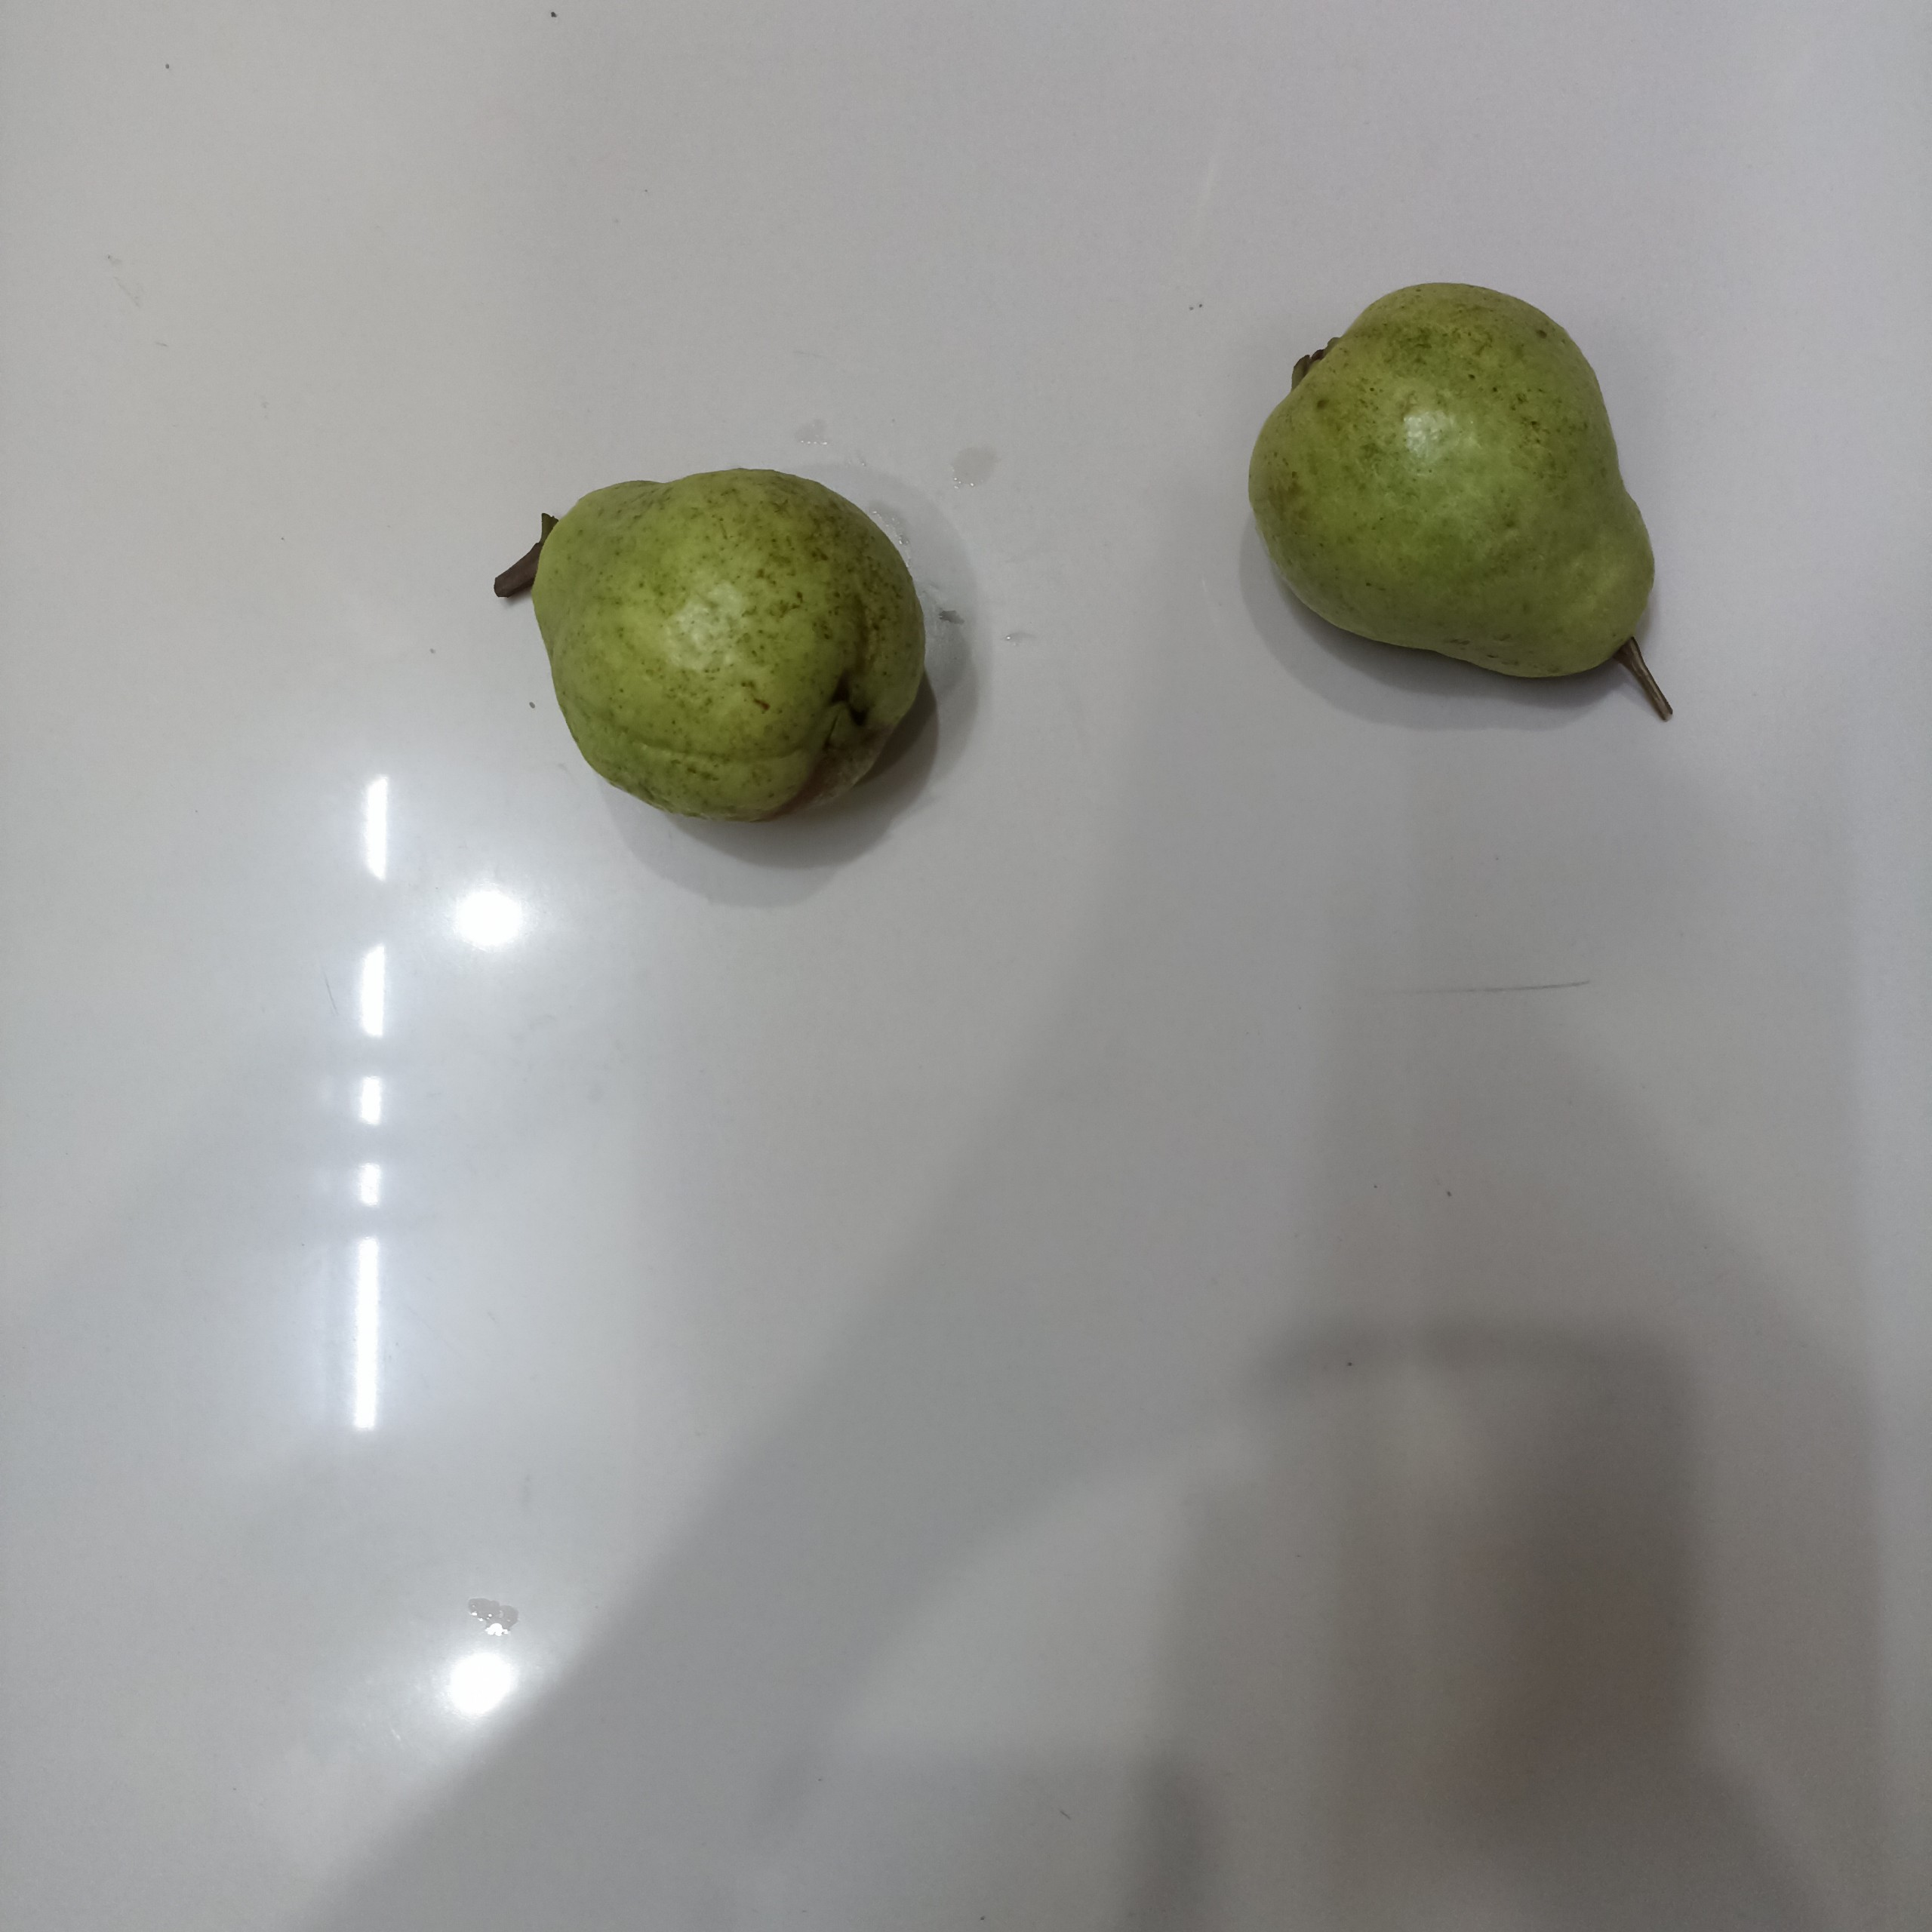Oi: (1244, 280, 1665, 688), (525, 467, 929, 830)
